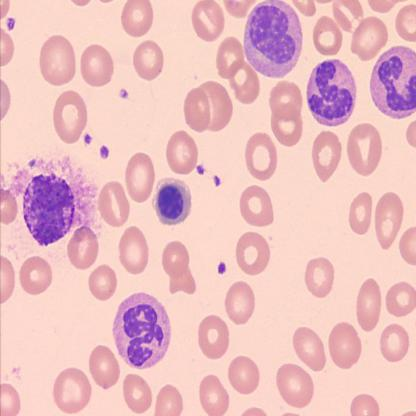NRC: (151, 177, 193, 228)
